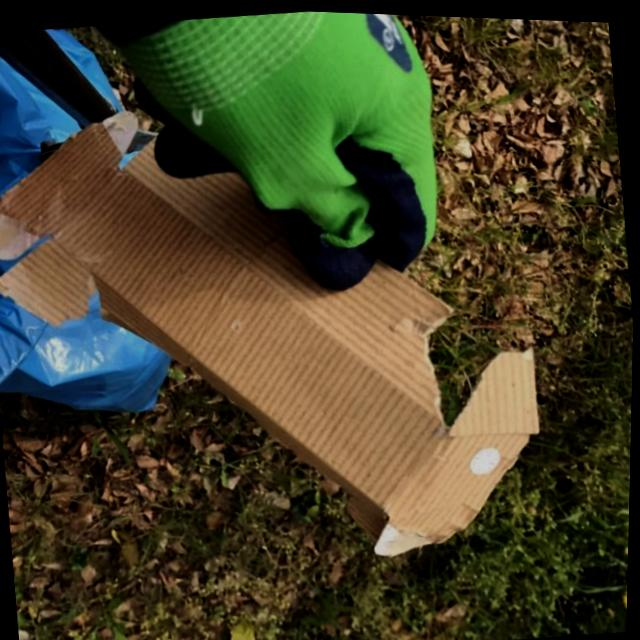Paper: (0, 59, 568, 601)
